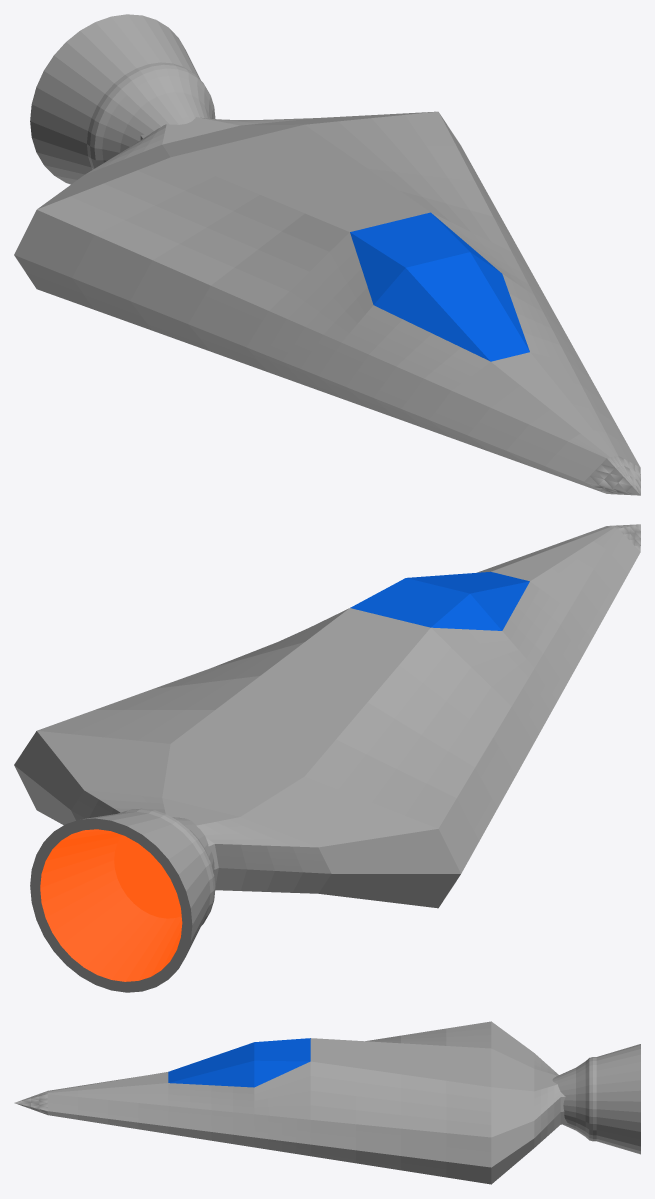
Rendered from tier 1 ship.glb.
The picture shows the model from 3 angles, top to bottom: view 1: azimuth 30°, elevation 25°; view 2: azimuth 150°, elevation 25°; view 3: azimuth 270°, elevation 25°; orthographic projection. The views are drawn at different scales.
Parts seen in each view (by area): view 1: Cylinder; view 2: Cylinder; view 3: Cylinder.
Boxes of the visible parts, box(x1,y1,x2,y2) form: Cylinder: box(14, 14, 640, 495); Cylinder: box(14, 524, 640, 992); Cylinder: box(14, 1021, 640, 1184).
Bounding box in the file's own units: 22.57 × 8.19 × 46.3.
